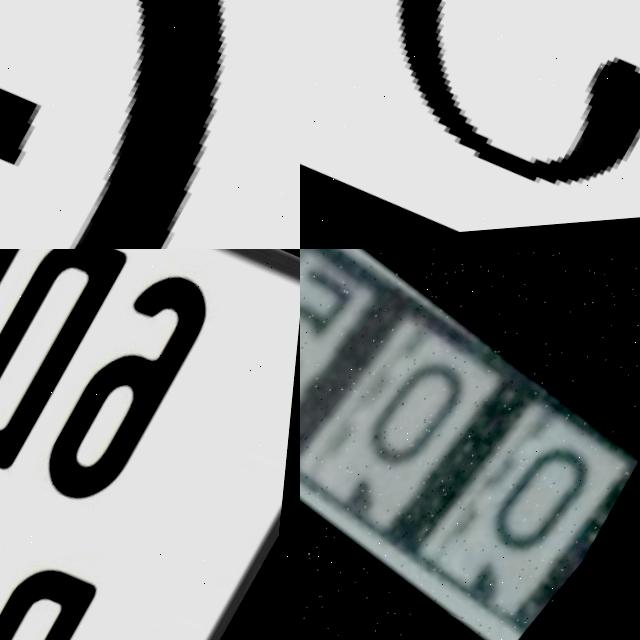0: (461, 414, 640, 607), (349, 338, 510, 509)
3: (300, 0, 640, 247)
5: (300, 249, 389, 417)
6: (32, 265, 231, 527)
D: (0, 249, 134, 491)
G: (0, 0, 300, 249)
